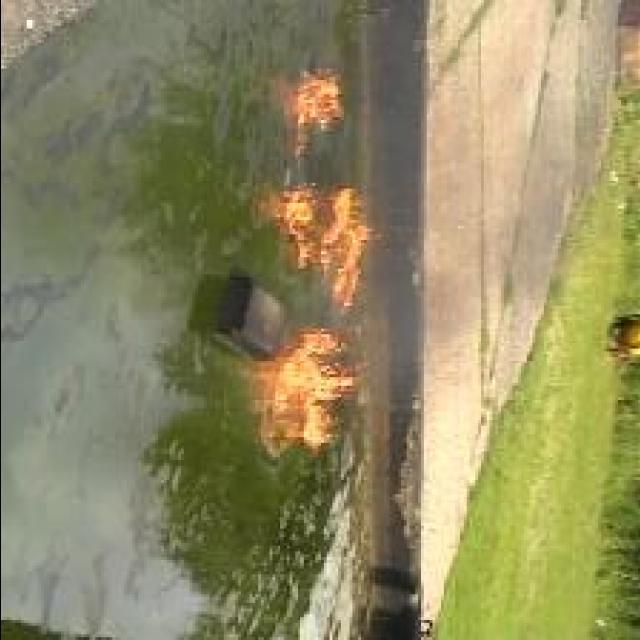Fire: (268, 330, 356, 447), (316, 188, 382, 314), (291, 76, 343, 156), (270, 186, 316, 272)
